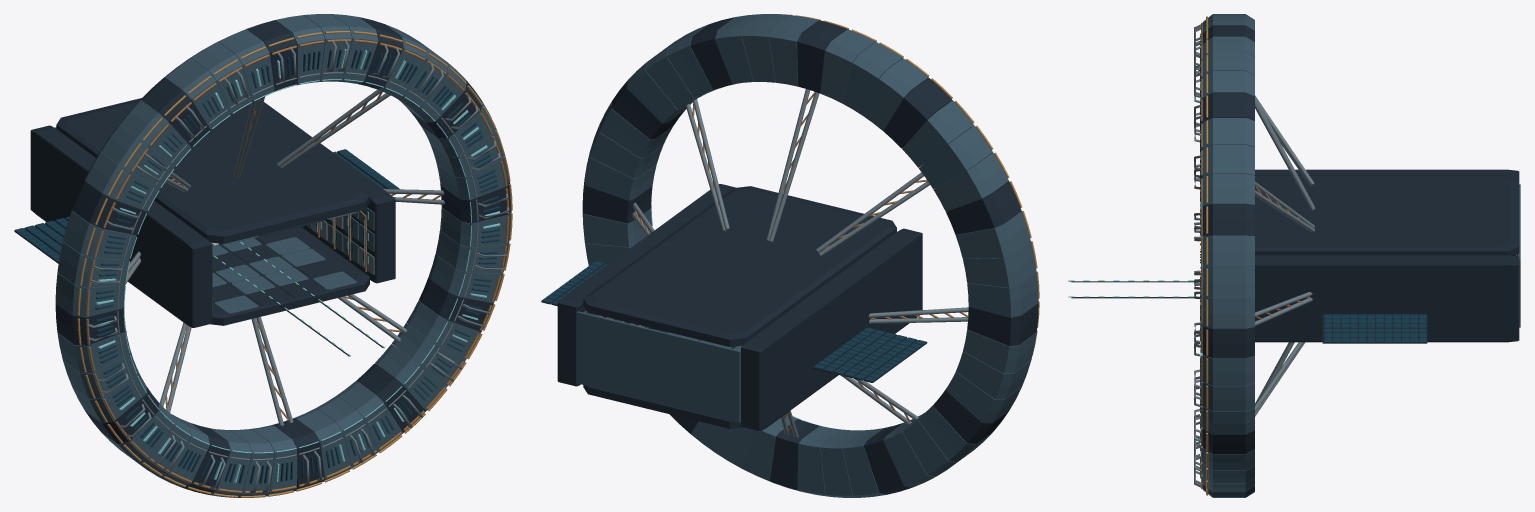
File: astra_terminal.glb
The picture shows the model from 3 angles, left to right: view 1: azimuth 30°, elevation 25°; view 2: azimuth 150°, elevation 25°; view 3: azimuth 270°, elevation 25°; orthographic projection. The views are drawn at different scales.
Parts seen in each view (by area): view 1: astra_terminal; view 2: astra_terminal; view 3: astra_terminal.
Boxes of the visible parts, left/top/right/bottom form: astra_terminal: left=14, top=14, right=512, bottom=497; astra_terminal: left=541, top=14, right=1039, bottom=497; astra_terminal: left=1068, top=14, right=1520, bottom=497.
Size of the model in its own units: 258 by 258 by 241.
